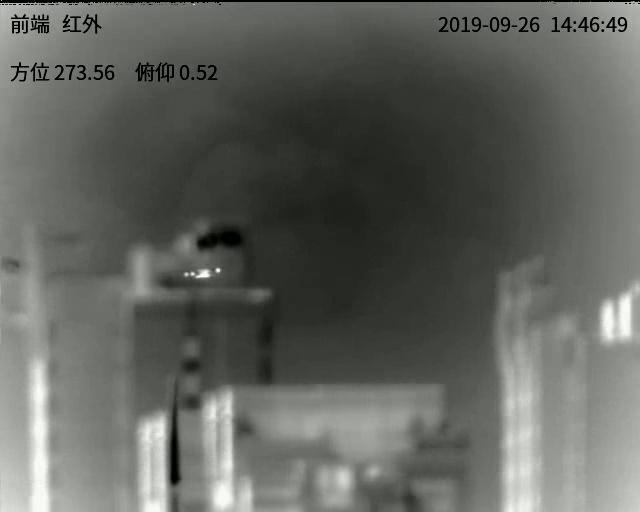DRONE: (182, 267, 221, 279)
